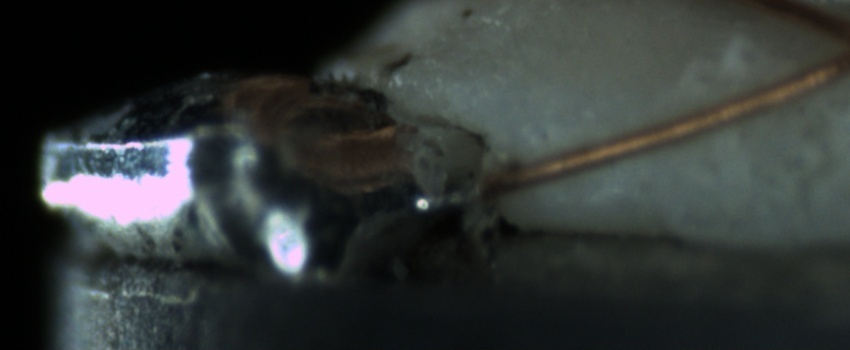TS: (408, 173, 478, 218)
